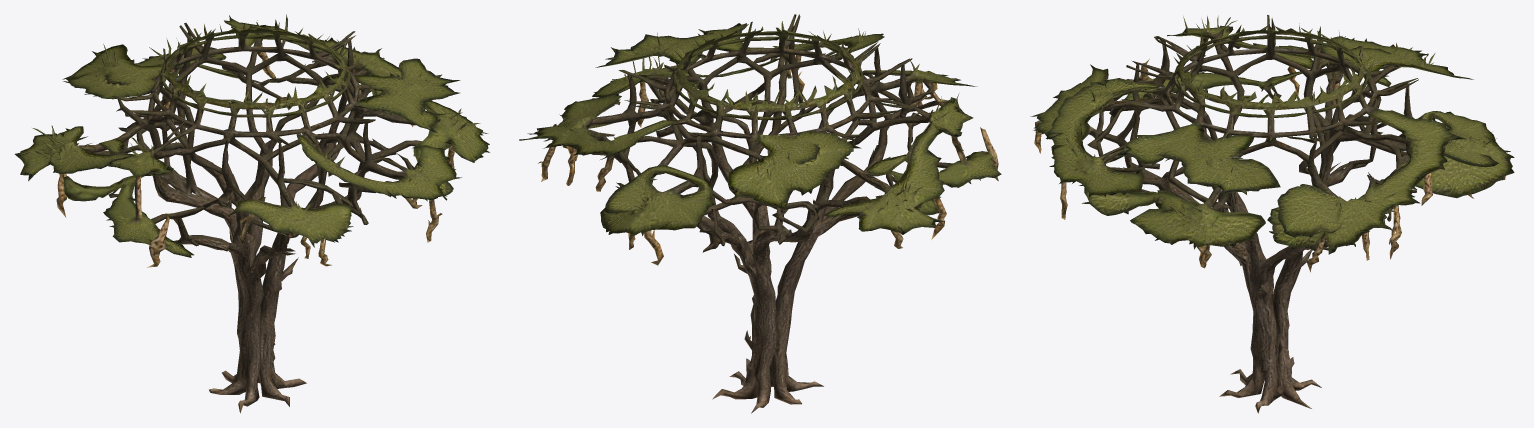
Rendered from acacia.glb.
3 renders of one model, left to right at view 1: azimuth 30°, elevation 25°; view 2: azimuth 150°, elevation 25°; view 3: azimuth 270°, elevation 25°, orthographic.
Parts seen in each view (by area): view 1: tripo_node_1712f652-2964-4fc6-8985-0ee87f5465a7; view 2: tripo_node_1712f652-2964-4fc6-8985-0ee87f5465a7; view 3: tripo_node_1712f652-2964-4fc6-8985-0ee87f5465a7.
Part boxes in pixels (box(x1,y1,x2,y2)): tripo_node_1712f652-2964-4fc6-8985-0ee87f5465a7: box(14, 14, 489, 413); tripo_node_1712f652-2964-4fc6-8985-0ee87f5465a7: box(519, 14, 1001, 413); tripo_node_1712f652-2964-4fc6-8985-0ee87f5465a7: box(1030, 15, 1514, 413).
Size of the model in its own units: 0.9575 by 0.7571 by 1.
1 material, 1 textured.
